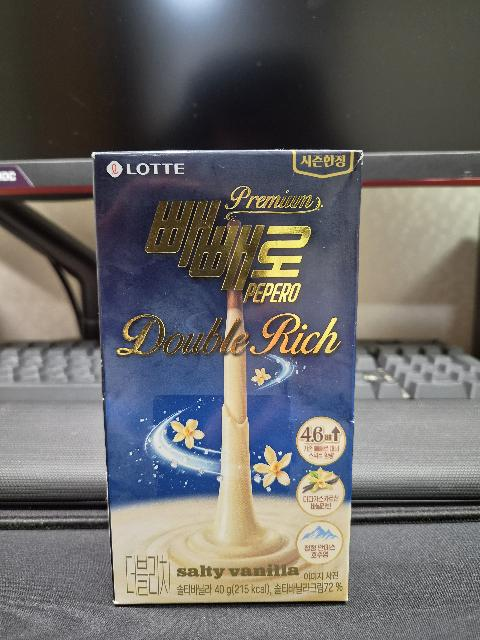pepero: (91, 150, 364, 605)
